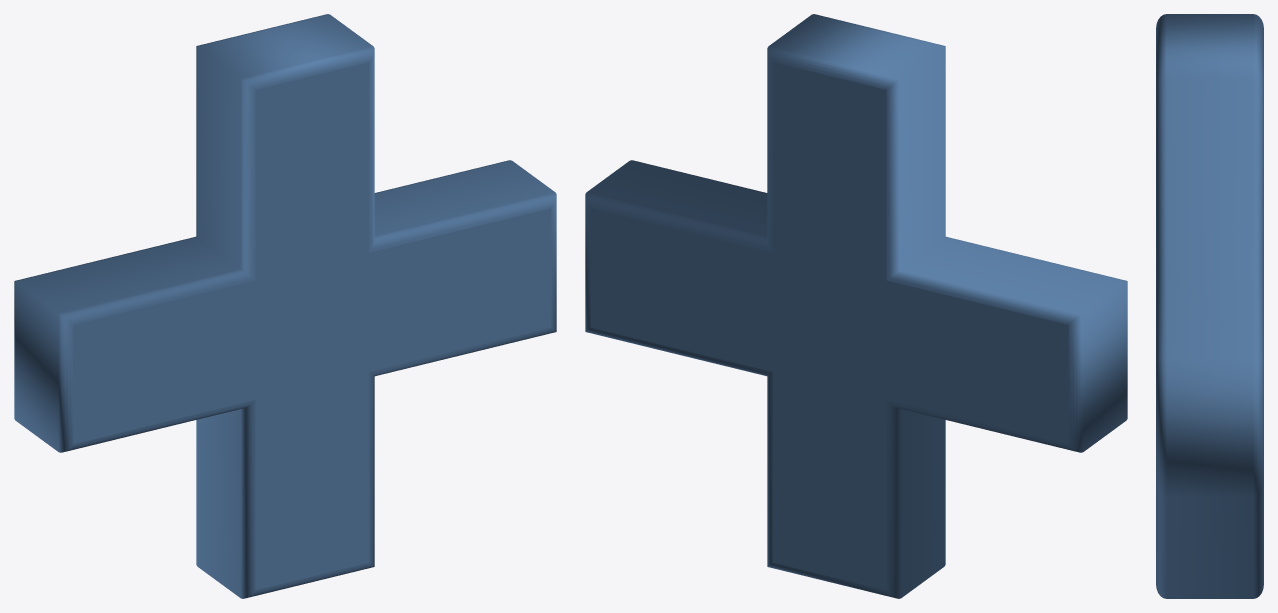
Rendered from plus.fbx.
3 renders of one model, left to right at view 1: azimuth 30°, elevation 25°; view 2: azimuth 150°, elevation 25°; view 3: azimuth 270°, elevation 25°, orthographic.
Parts seen in each view (by area): view 1: Add; view 2: Add; view 3: Add.
Part boxes in pixels (x1,y1,x2,y2): Add: (14, 14, 556, 598); Add: (585, 14, 1127, 598); Add: (1156, 14, 1263, 598).
Bounding box in the file's own units: 218 × 218 × 40.98.
